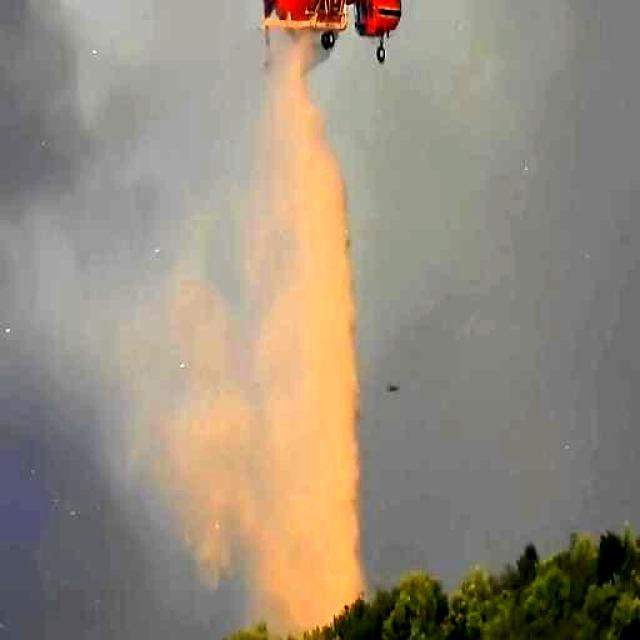drone: (118, 0, 470, 69)
